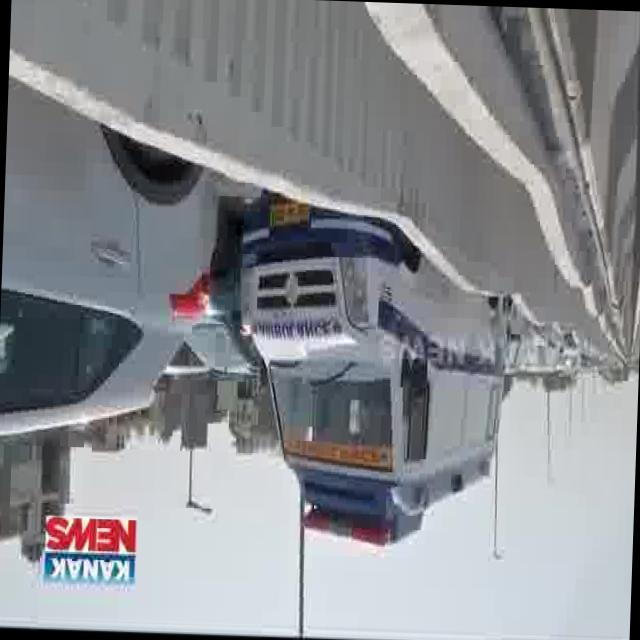ambulance: (229, 195, 517, 546)
